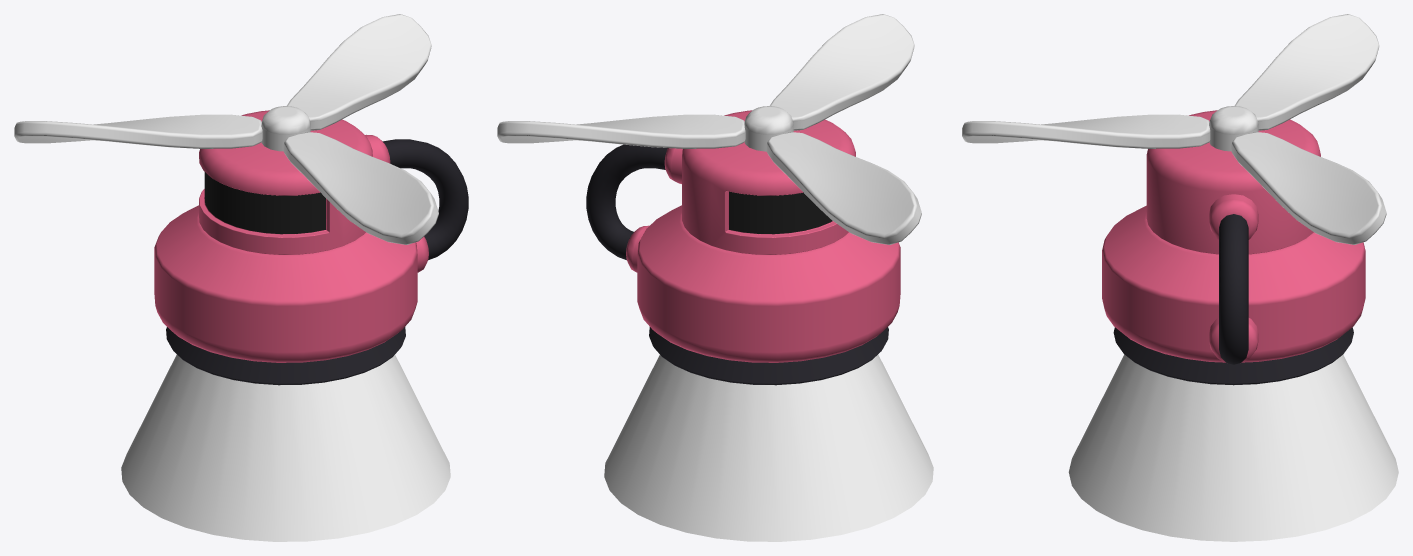
The model's file is spawner_model.glb.
The picture shows the model from 3 angles, left to right: view 1: azimuth 30°, elevation 25°; view 2: azimuth 150°, elevation 25°; view 3: azimuth 270°, elevation 25°; orthographic projection.
Parts seen in each view (by area): view 1: Body, halo, Top; view 2: Body, halo, Top; view 3: Body, halo, Top.
Part boxes in pixels (x1,y1,x2,y2): Body: (154,110,468,385); halo: (121,354,450,541); Top: (14,14,438,244); Body: (586,110,900,385); halo: (604,354,933,541); Top: (497,14,921,244); Body: (1102,110,1365,385); halo: (1068,354,1398,541); Top: (962,14,1386,244).
Bounding box in the file's own units: 3.11 × 2.59 × 2.83.
